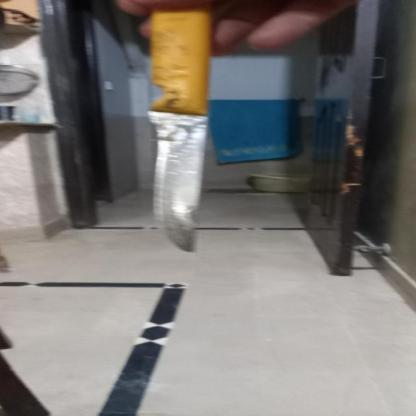Knife: (139, 0, 214, 252)
